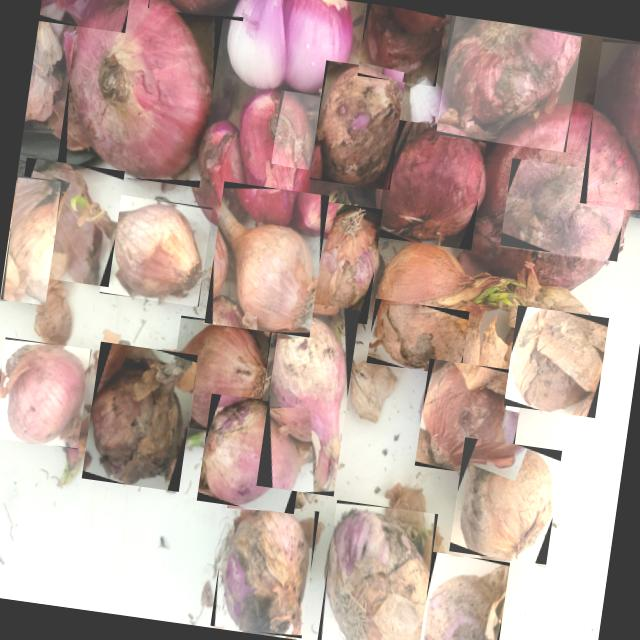healthy: (56, 0, 225, 188), (256, 299, 360, 496), (204, 182, 330, 338), (166, 316, 272, 438), (100, 194, 212, 307), (0, 337, 91, 449), (0, 176, 62, 306)
rotten: (436, 16, 582, 153), (82, 342, 198, 492), (317, 500, 438, 640), (210, 499, 320, 638), (10, 158, 124, 288), (376, 120, 488, 250), (449, 437, 562, 565), (500, 158, 629, 264), (196, 394, 308, 514), (414, 359, 524, 479), (309, 61, 406, 191), (504, 306, 610, 418), (580, 38, 640, 214), (298, 200, 382, 325), (418, 552, 510, 640), (366, 298, 469, 376), (358, 3, 446, 86), (271, 90, 321, 170), (39, 0, 134, 33), (147, 0, 247, 21)
